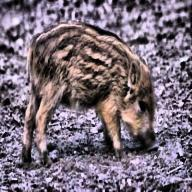boar: (20, 12, 179, 149)
